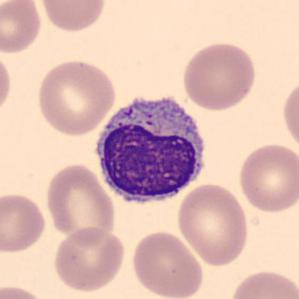Lymphocyte: (88, 87, 214, 212)
RBC: (174, 181, 252, 268), (34, 57, 118, 136), (43, 162, 117, 242), (179, 39, 258, 112), (130, 229, 205, 299), (51, 225, 127, 293), (236, 141, 298, 215), (0, 190, 48, 255), (0, 0, 44, 55), (37, 0, 108, 34), (228, 267, 298, 299), (280, 77, 299, 153), (0, 49, 14, 119), (0, 282, 50, 299)
